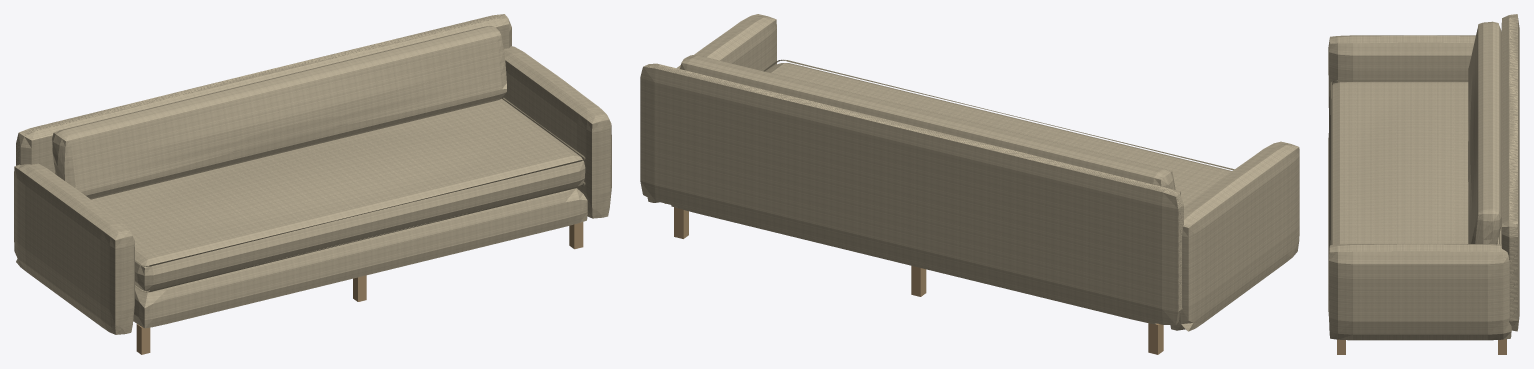
The model's file is HIN-SOF-4-seat.glb.
3 views of the same model, side by side, from view 1: azimuth 30°, elevation 25°; view 2: azimuth 150°, elevation 25°; view 3: azimuth 270°, elevation 25° (orthographic). The views are drawn at different scales.
Visible parts, largest first — view 1: seat:fabric:eyJwcmVzZXQiOiJsaW5lbiIsIndhcnAiOiJvYXQiLCJ3ZWZ0, inside-back:fabric:eyJwcmVzZXQiOiJsaW5lbiIsIndhcnAiOiJvYXQiL, deck:fabric:eyJwcmVzZXQiOiJsaW5lbiIsIndhcnAiOiJvYXQiLCJ3ZWZ0, arm-pad-l:fabric:eyJwcmVzZXQiOiJsaW5lbiIsIndhcnAiOiJvYXQiLCJ, arm-pad-r:fabric:eyJwcmVzZXQiOiJsaW5lbiIsIndhcnAiOiJvYXQiLCJ, back-pad:fabric:eyJwcmVzZXQiOiJsaW5lbiIsIndhcnAiOiJvYXQiLCJ3, seat:piping:pbr; view 2: back-pad:fabric:eyJwcmVzZXQiOiJsaW5lbiIsIndhcnAiOiJvYXQiLCJ3, arm-pad-l:fabric:eyJwcmVzZXQiOiJsaW5lbiIsIndhcnAiOiJvYXQiLCJ, inside-back:fabric:eyJwcmVzZXQiOiJsaW5lbiIsIndhcnAiOiJvYXQiL, seat:fabric:eyJwcmVzZXQiOiJsaW5lbiIsIndhcnAiOiJvYXQiLCJ3ZWZ0, arm-pad-r:fabric:eyJwcmVzZXQiOiJsaW5lbiIsIndhcnAiOiJvYXQiLCJ, deck:fabric:eyJwcmVzZXQiOiJsaW5lbiIsIndhcnAiOiJvYXQiLCJ3ZWZ0, seat:piping:pbr; view 3: seat:fabric:eyJwcmVzZXQiOiJsaW5lbiIsIndhcnAiOiJvYXQiLCJ3ZWZ0, arm-pad-r:fabric:eyJwcmVzZXQiOiJsaW5lbiIsIndhcnAiOiJvYXQiLCJ, inside-back:fabric:eyJwcmVzZXQiOiJsaW5lbiIsIndhcnAiOiJvYXQiL, arm-pad-l:fabric:eyJwcmVzZXQiOiJsaW5lbiIsIndhcnAiOiJvYXQiLCJ, back-pad:fabric:eyJwcmVzZXQiOiJsaW5lbiIsIndhcnAiOiJvYXQiLCJ3, seat:piping:pbr.
Part boxes in pixels (bbox=[...]): seat:fabric:eyJwcmVzZXQiOiJsaW5lbiIsIndhcnAiOiJvYXQiLCJ3ZWZ0: bbox=[91, 98, 585, 290]; inside-back:fabric:eyJwcmVzZXQiOiJsaW5lbiIsIndhcnAiOiJvYXQiL: bbox=[52, 26, 506, 199]; deck:fabric:eyJwcmVzZXQiOiJsaW5lbiIsIndhcnAiOiJvYXQiLCJ3ZWZ0: bbox=[133, 188, 587, 328]; arm-pad-l:fabric:eyJwcmVzZXQiOiJsaW5lbiIsIndhcnAiOiJvYXQiLCJ: bbox=[14, 163, 134, 334]; arm-pad-r:fabric:eyJwcmVzZXQiOiJsaW5lbiIsIndhcnAiOiJvYXQiLCJ: bbox=[502, 46, 611, 218]; back-pad:fabric:eyJwcmVzZXQiOiJsaW5lbiIsIndhcnAiOiJvYXQiLCJ3: bbox=[16, 14, 511, 173]; seat:piping:pbr: bbox=[135, 97, 585, 292]; back-pad:fabric:eyJwcmVzZXQiOiJsaW5lbiIsIndhcnAiOiJvYXQiLCJ3: bbox=[640, 63, 1183, 324]; arm-pad-l:fabric:eyJwcmVzZXQiOiJsaW5lbiIsIndhcnAiOiJvYXQiLCJ: bbox=[1170, 141, 1299, 331]; inside-back:fabric:eyJwcmVzZXQiOiJsaW5lbiIsIndhcnAiOiJvYXQiL: bbox=[680, 54, 1175, 189]; seat:fabric:eyJwcmVzZXQiOiJsaW5lbiIsIndhcnAiOiJvYXQiLCJ3ZWZ0: bbox=[766, 63, 1231, 206]; arm-pad-r:fabric:eyJwcmVzZXQiOiJsaW5lbiIsIndhcnAiOiJvYXQiLCJ: bbox=[647, 14, 776, 203]; deck:fabric:eyJwcmVzZXQiOiJsaW5lbiIsIndhcnAiOiJvYXQiLCJ3ZWZ0: bbox=[671, 205, 1156, 324]; seat:piping:pbr: bbox=[763, 59, 1234, 170]; seat:fabric:eyJwcmVzZXQiOiJsaW5lbiIsIndhcnAiOiJvYXQiLCJ3ZWZ0: bbox=[1329, 82, 1501, 250]; arm-pad-r:fabric:eyJwcmVzZXQiOiJsaW5lbiIsIndhcnAiOiJvYXQiLCJ: bbox=[1328, 244, 1511, 340]; inside-back:fabric:eyJwcmVzZXQiOiJsaW5lbiIsIndhcnAiOiJvYXQiL: bbox=[1468, 21, 1501, 244]; arm-pad-l:fabric:eyJwcmVzZXQiOiJsaW5lbiIsIndhcnAiOiJvYXQiLCJ: bbox=[1328, 35, 1475, 107]; back-pad:fabric:eyJwcmVzZXQiOiJsaW5lbiIsIndhcnAiOiJvYXQiLCJ3: bbox=[1501, 14, 1519, 331]; seat:piping:pbr: bbox=[1330, 80, 1499, 245].
Bounding box in the file's own units: 2.6 × 0.78 × 0.95.
13 materials, 6 textured.
